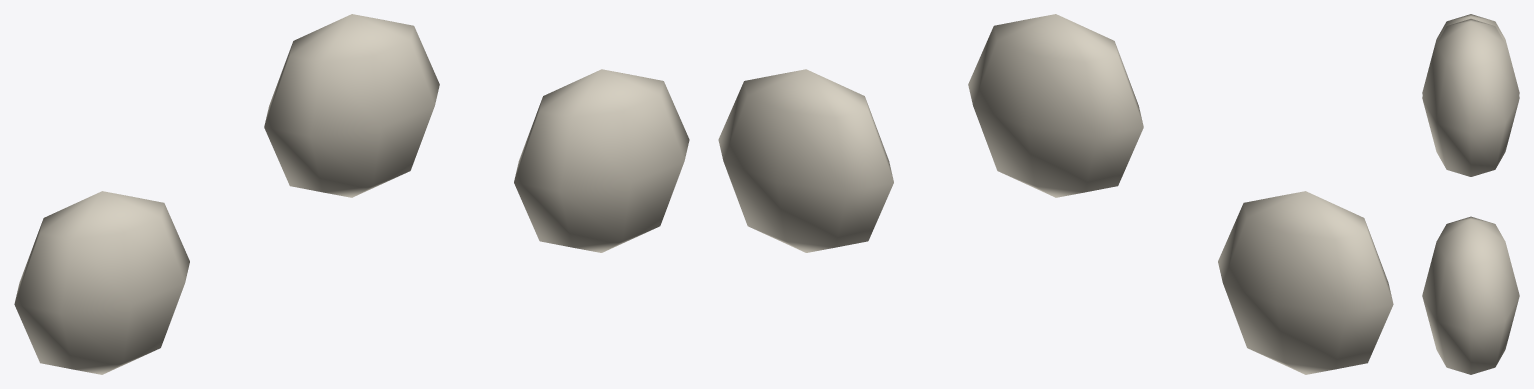
File: buttons.glb
3 views of the same model, side by side, from view 1: azimuth 30°, elevation 25°; view 2: azimuth 150°, elevation 25°; view 3: azimuth 270°, elevation 25° (orthographic). The views are drawn at different scales.
Visible parts, largest first — view 1: buttons; view 2: buttons; view 3: buttons.
Part boxes in pixels (x1,y1,x2,y2): buttons: (14,14,689,374); buttons: (718,14,1393,374); buttons: (1422,14,1519,374).
Size of the model in its own units: 0.3285 by 0.1395 by 0.0495.
